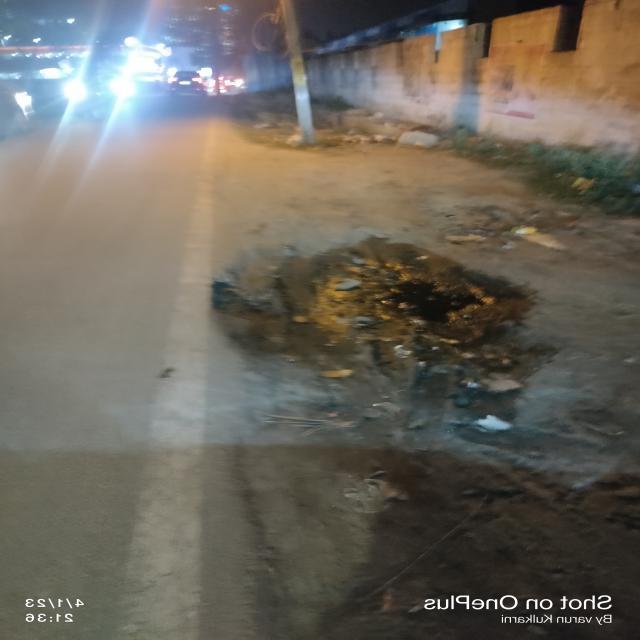potholes: (212, 238, 540, 414)
